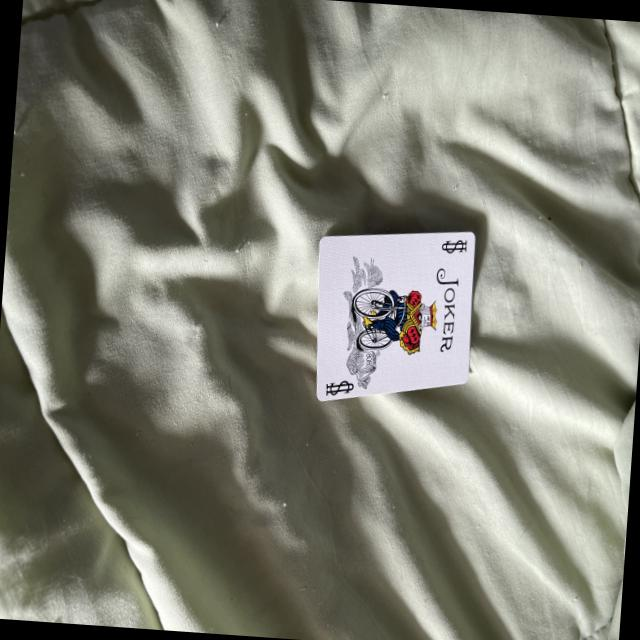Joker: (278, 179, 490, 431)
